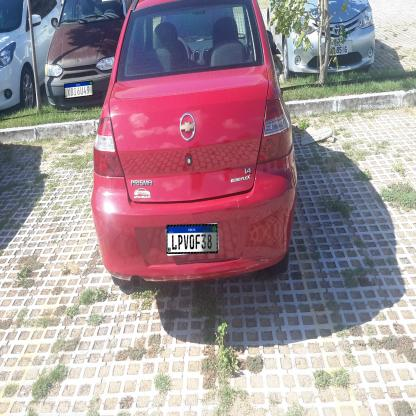PlacaM: (166, 224, 218, 254), (64, 80, 93, 99)
